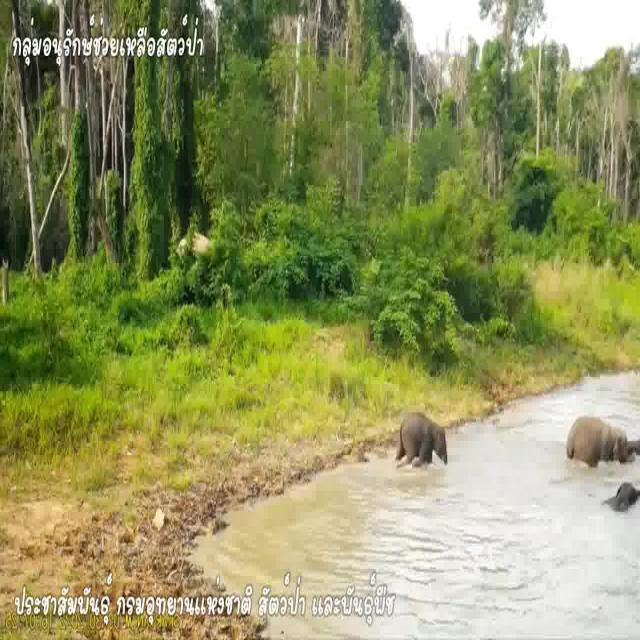Elephant: (565, 416, 632, 469), (398, 404, 446, 466), (614, 482, 638, 516)
